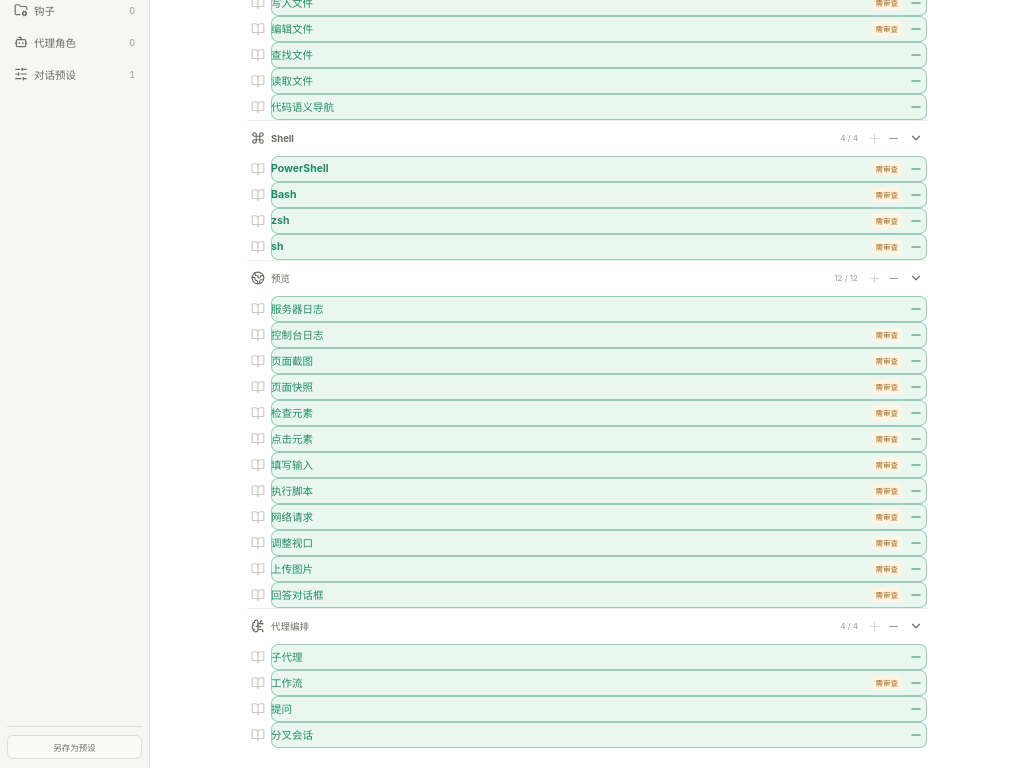
Test: ConversationSettings › keeps the save-as dialog open with the reason when saving fails
(page scrolled)
Click the button "另存为预设": [74, 746] box [7,734,142,758]
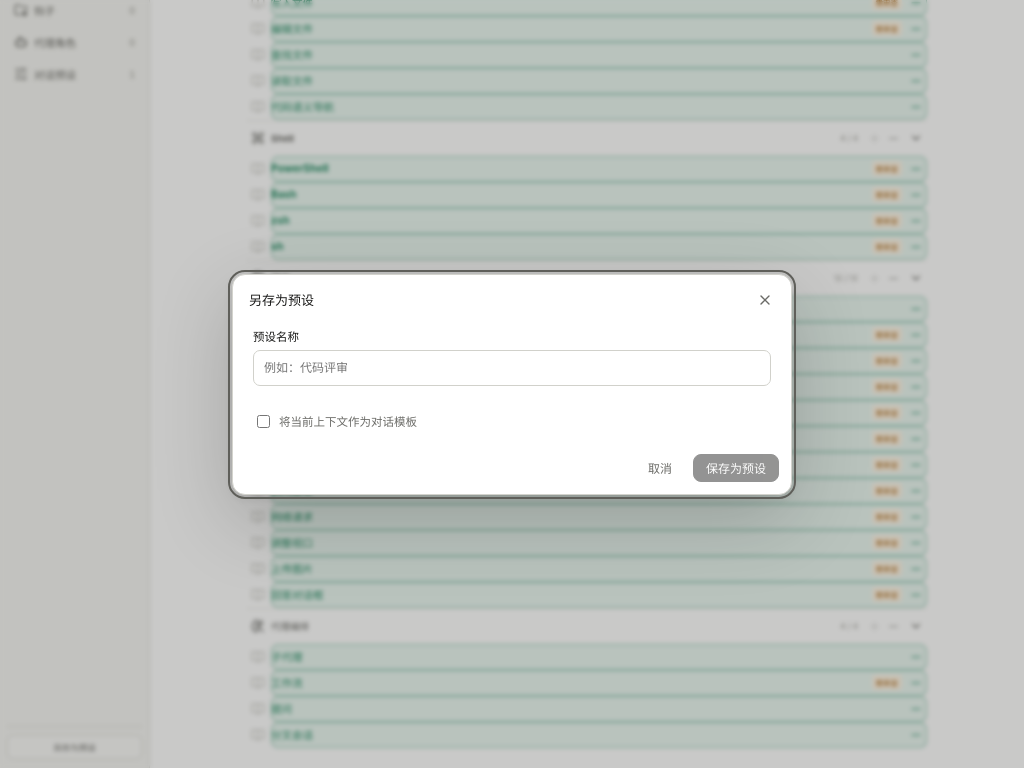
In the field labelled "预设名称": [512, 368] box [253,350,771,386], type "评审"
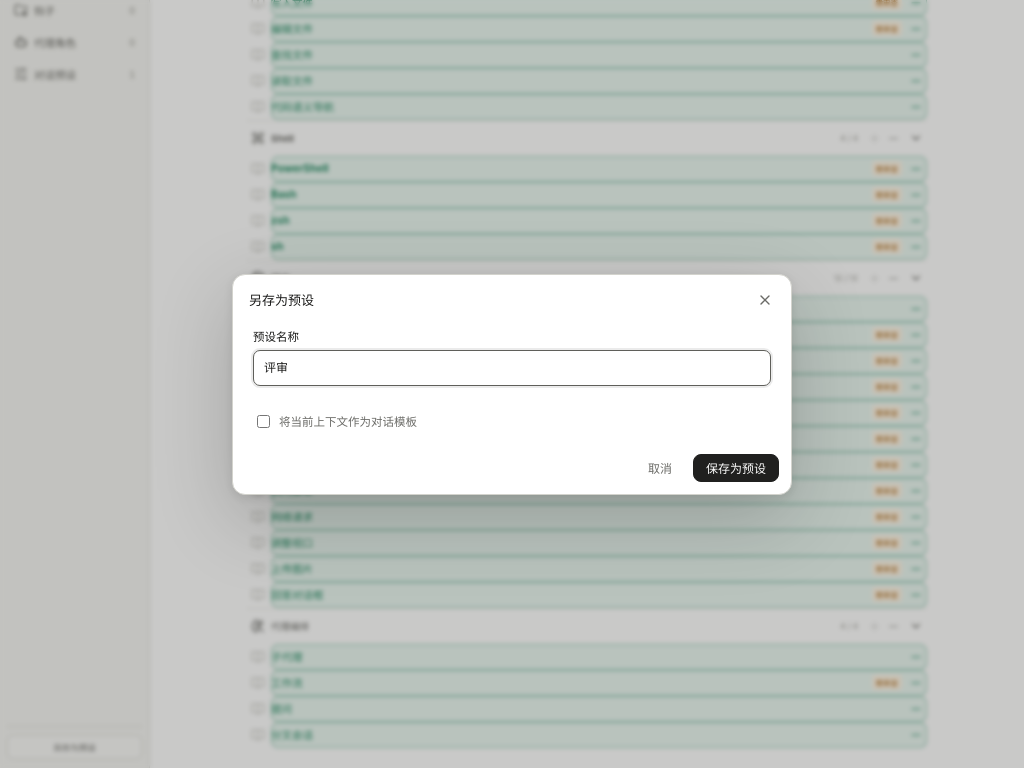
Click the button "保存为预设": [736, 468] box [693,454,779,482]
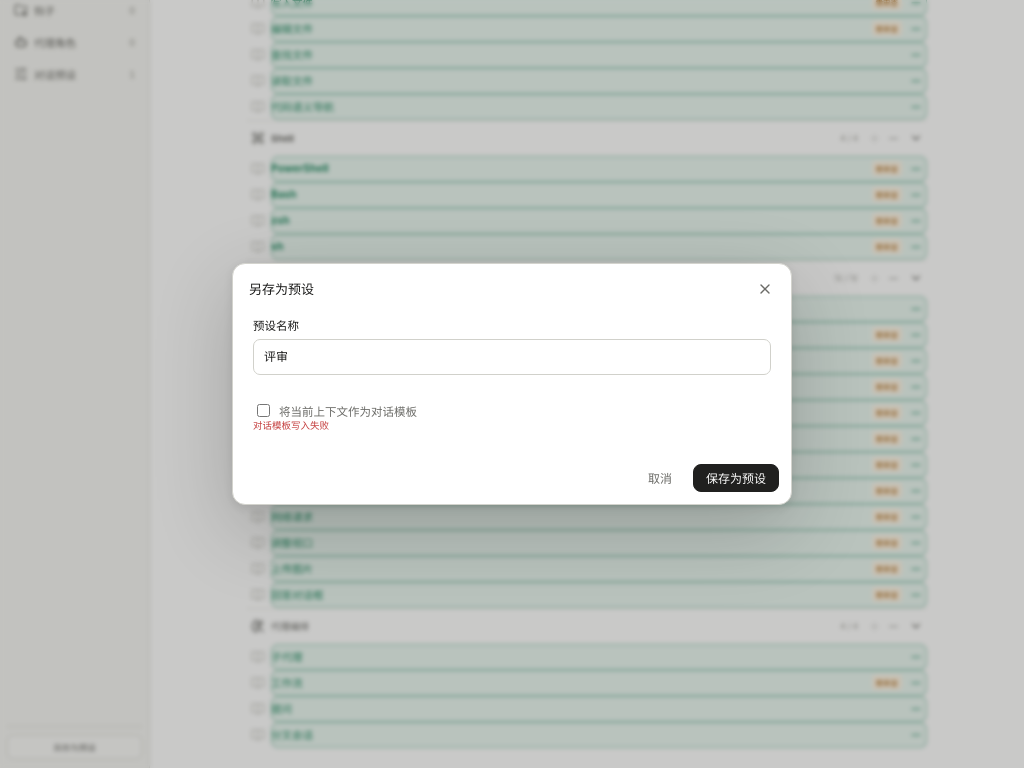
Expected: the message reads "对话模板写入失败", [253,420,329,431]
